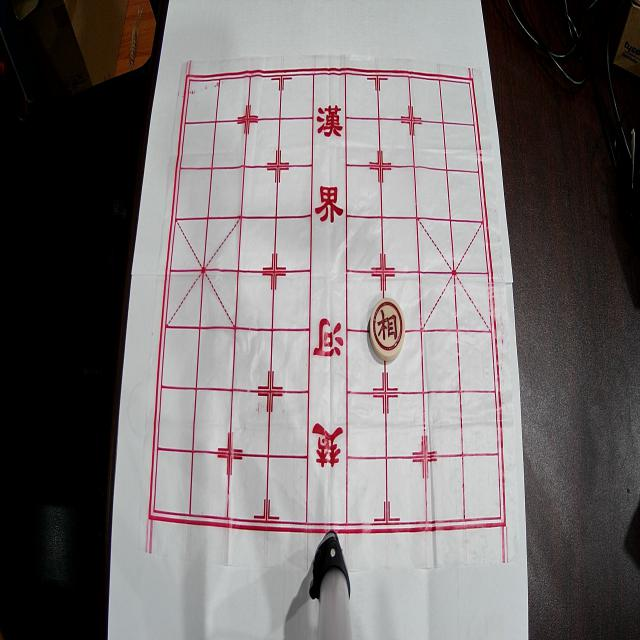red-elephant: (370, 298, 405, 361)
